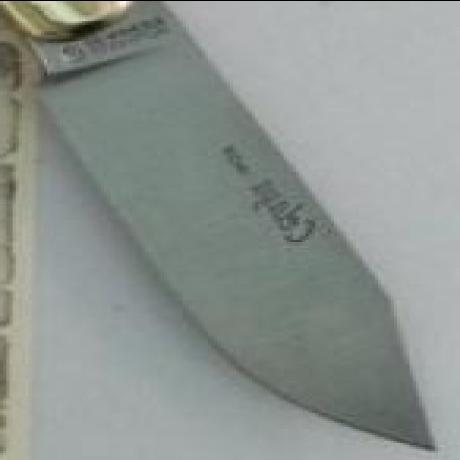weapon: (11, 3, 438, 449)
